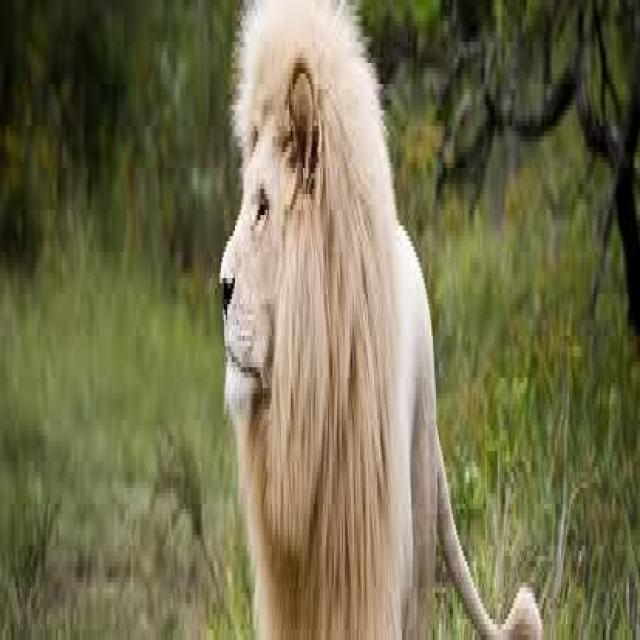Lion: (223, 8, 439, 631)
